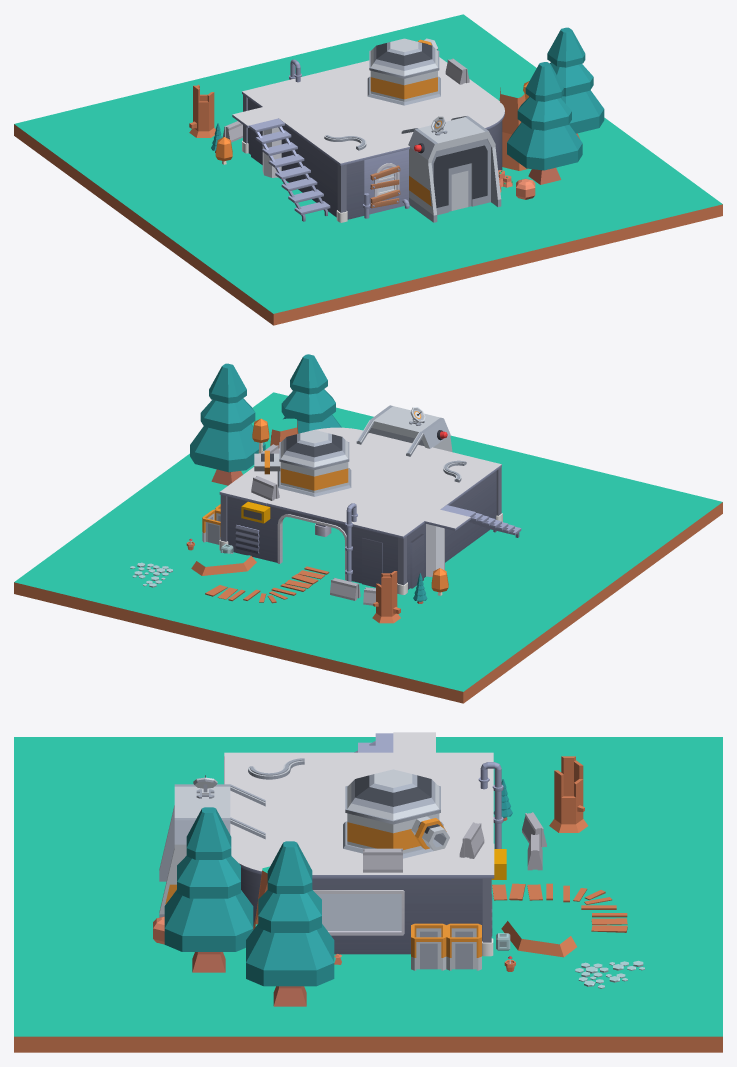
File: house.glb
The picture shows the model from 3 angles, top to bottom: view 1: azimuth 30°, elevation 25°; view 2: azimuth 150°, elevation 25°; view 3: azimuth 270°, elevation 25°; orthographic projection. The views are drawn at different scales.
Visible parts, largest first — view 1: cliff_blockHalf_rock, floor-quarter (×3), tree_pineSmallA (×2), hangar_smallB, hangar_roundB, stairs-open, wall-corner-column-small-bottom, wall-window-round-detailed, wall, rock_tallF, stump_oldTall, floor-corner-round (+1 smaller); view 2: cliff_blockHalf_rock, floor-quarter (×3), tree_pineSmallA (×2), hangar_roundB, wall-corner-column-bottom (×2), hangar_smallB, wall-doorway-wide-round, wall, wall-low (×2), stump_oldTall, rock_smallFlatB, cylinderVertex_half (+5 smaller); view 3: cliff_blockHalf_rock, floor-quarter (×3), tree_pineSmallA (×2), wall-window-wide-square, hangar_roundB, wall-corner-column-bottom, structure_closed (×2), hangar_smallB, stump_oldTall, rock_smallFlatB, construction_barrier (×2), floor-corner-round (+7 smaller).
Part boxes in pixels (bbox=[...]): cliff_blockHalf_rock: bbox=[14, 14, 722, 325]; floor-quarter (×3): bbox=[232, 57, 497, 165]; tree_pineSmallA (×2): bbox=[507, 27, 604, 184]; hangar_smallB: bbox=[408, 116, 501, 222]; hangar_roundB: bbox=[367, 38, 440, 105]; stairs-open: bbox=[249, 118, 330, 221]; wall-corner-column-small-bottom: bbox=[328, 157, 364, 222]; wall-window-round-detailed: bbox=[364, 149, 408, 214]; wall: bbox=[281, 125, 328, 211]; rock_tallF: bbox=[499, 84, 528, 170]; stump_oldTall: bbox=[189, 84, 215, 137]; floor-corner-round: bbox=[454, 100, 504, 129]; cliff_blockHalf_rock: bbox=[14, 392, 722, 703]; floor-quarter (×3): bbox=[219, 430, 501, 538]; tree_pineSmallA (×2): bbox=[190, 354, 341, 485]; hangar_roundB: bbox=[277, 430, 351, 496]; wall-corner-column-bottom (×2): bbox=[219, 495, 425, 594]; hangar_smallB: bbox=[368, 405, 452, 452]; wall-doorway-wide-round: bbox=[268, 506, 357, 582]; wall: bbox=[445, 478, 485, 562]; wall-low (×2): bbox=[362, 534, 423, 588]; stump_oldTall: bbox=[372, 571, 400, 623]; rock_smallFlatB: bbox=[191, 552, 256, 575]; cylinderVertex_half: bbox=[426, 524, 444, 576]; cliff_blockHalf_rock: bbox=[14, 737, 722, 1052]; floor-quarter (×3): bbox=[224, 732, 494, 878]; tree_pineSmallA (×2): bbox=[164, 807, 334, 1006]; wall-window-wide-square: bbox=[312, 878, 417, 954]; hangar_roundB: bbox=[343, 769, 443, 858]; wall-corner-column-bottom: bbox=[418, 878, 493, 956]; structure_closed (×2): bbox=[411, 923, 481, 970]; hangar_smallB: bbox=[159, 784, 230, 917]; stump_oldTall: bbox=[549, 756, 588, 832]; rock_smallFlatB: bbox=[501, 919, 576, 957]; construction_barrier (×2): bbox=[363, 822, 484, 872]; floor-corner-round: bbox=[231, 845, 280, 874].
Size of the model in its own units: 20 by 5.34 by 20.
123 materials, 25 textured.
